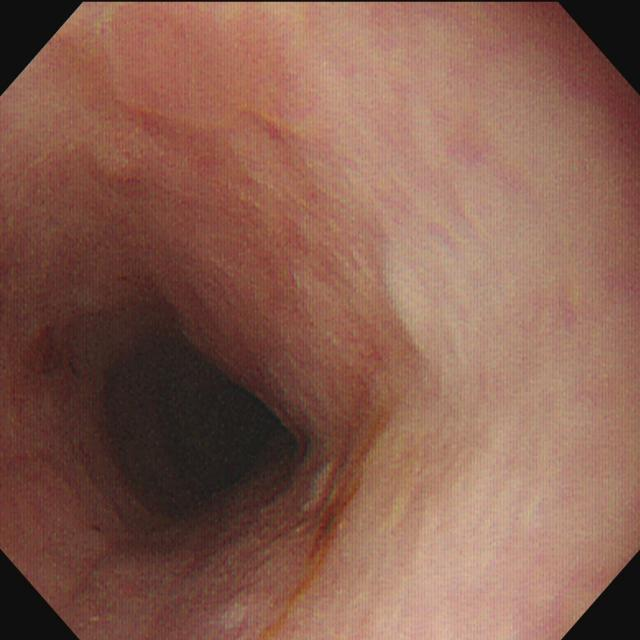E: (81, 289, 315, 540)
J: (282, 443, 386, 614)
